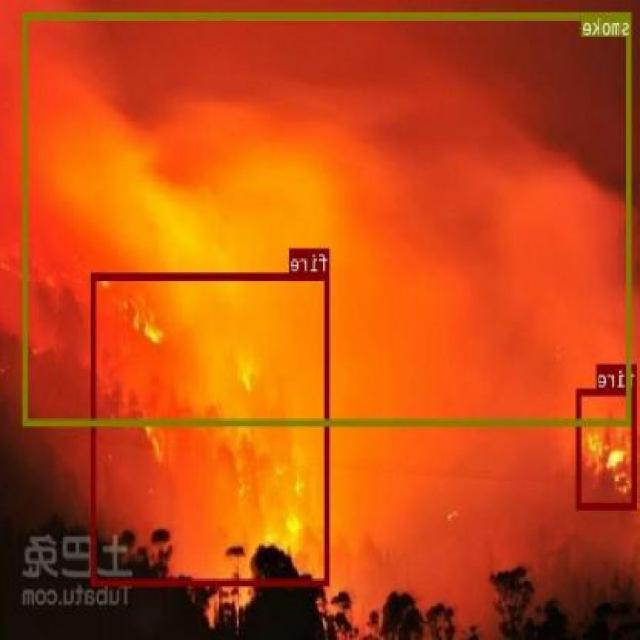Fire: (93, 272, 330, 585), (578, 388, 638, 510)
Smoke: (23, 11, 632, 424)
